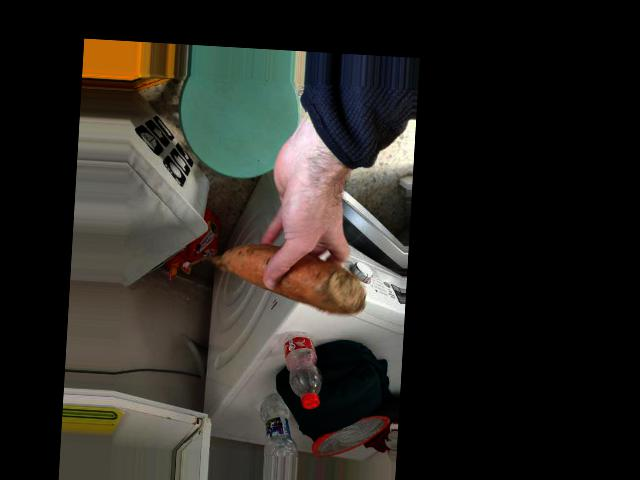sweet_potato: (204, 251, 366, 306)
